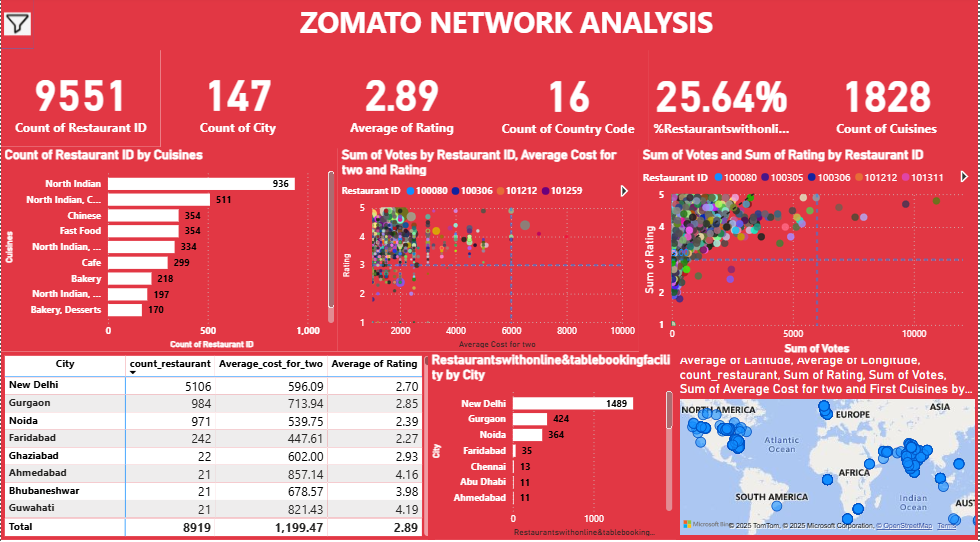

This screenshot's page, from the dashboard's own definition file:
{"tool":"powerbi","page":{"name":"Page 2","canvas":[1280,720],"ordinal":1},"visuals":[{"type":"textbox","box":[43.2,2.6,1237.1,66.8],"z":1000},{"type":"shape","box":[0,2.6,43.2,66.8],"z":2000},{"type":"card","fields":{"Values":["CountNonNull(ZomatoData.Restaurant ID)"]},"box":[0,68.1,209.5,128.3],"z":3000},{"type":"card","fields":{"Values":["Count(ZomatoData.City)"]},"box":[209.5,68.1,201.6,129.6],"z":4000},{"type":"card","fields":{"Values":["Count(ZomatoData.Country Code)"]},"box":[636.2,69.4,212.1,129.6],"z":5000},{"type":"card","fields":{"Values":["Avg(ZomatoData.Rating)"]},"box":[411.1,68.1,227.8,129.6],"z":6000},{"type":"card","fields":{"Values":["ZomatoData.%Restaurantswithonline&tablebookingfacility"]},"box":[848.3,68.1,189.8,130.9],"z":7000},{"type":"card","fields":{"Values":["Count(ZomatoData.Cuisines)"]},"box":[1038.1,68.1,242.2,130.9],"z":8000},{"type":"clusteredBarChart","fields":{"Category":["ZomatoData.Cuisines"],"Y":["CountNonNull(ZomatoData.Restaurant ID)"]},"box":[0,196.4,441.2,268.4],"z":9000},{"type":"map","fields":{"Y":["Avg(ZomatoData.Latitude)"],"X":["Avg(ZomatoData.Longitude)"],"Size":["ZomatoData.count_restaurant"],"Category":["ZomatoData.Address"]},"box":[883.3,465.2,396.7,245.4],"z":10000},{"type":"pivotTable","fields":{"Rows":["ZomatoData.City"],"Values":["ZomatoData.count_restaurant","ZomatoData.Average_cost_for_two","Avg(ZomatoData.Rating)"]},"box":[0,464.7,568.1,246.1],"z":11000},{"type":"scatterChart","fields":{"X":["ZomatoData.Average Cost for two"],"Y":["ZomatoData.Rating"],"Size":["Sum(ZomatoData.Votes)"],"Series":["ZomatoData.Restaurant ID"]},"box":[441.2,196.4,394,268.4],"z":12000},{"type":"scatterChart","fields":{"Series":["ZomatoData.Restaurant ID"],"X":["Sum(ZomatoData.Votes)"],"Y":["Sum(ZomatoData.Rating)"]},"box":[835.2,196.4,445.1,276.2],"z":13000},{"type":"clusteredBarChart","fields":{"Y":["ZomatoData.Restaurantswithonline&tablebookingfacility"],"Category":["ZomatoData.City"]},"box":[559,464.7,324.7,246.1],"z":14000},{"type":"actionButton","box":[0,2.6,43.2,65.5],"z":15000}]}

Visuals, with their boxes in screenshot pixels (x1, y1, x2, y2), scaled from the page's 1280x720 canvas onto the 980x542 screenshot:
textbox: select_region(33, 2, 979, 52)
shape: select_region(0, 2, 33, 52)
card - CountNonNull(ZomatoData.Restaurant ID): select_region(0, 51, 160, 148)
card - Count(ZomatoData.City): select_region(160, 51, 315, 149)
card - Count(ZomatoData.Country Code): select_region(487, 52, 649, 150)
card - Avg(ZomatoData.Rating): select_region(315, 51, 489, 149)
card - ZomatoData.%Restaurantswithonline&tablebookingfacility: select_region(649, 51, 795, 150)
card - Count(ZomatoData.Cuisines): select_region(795, 51, 979, 150)
clusteredBarChart - ZomatoData.Cuisines x CountNonNull(ZomatoData.Restaurant ID): select_region(0, 148, 338, 350)
map - Avg(ZomatoData.Latitude) x Avg(ZomatoData.Longitude): select_region(676, 350, 979, 535)
pivotTable - ZomatoData.City x ZomatoData.count_restaurant: select_region(0, 350, 435, 535)
scatterChart - ZomatoData.Average Cost for two x ZomatoData.Rating: select_region(338, 148, 639, 350)
scatterChart - ZomatoData.Restaurant ID x Sum(ZomatoData.Votes): select_region(639, 148, 979, 356)
clusteredBarChart - ZomatoData.Restaurantswithonline&tablebookingfacility x ZomatoData.City: select_region(428, 350, 677, 535)
actionButton: select_region(0, 2, 33, 51)
